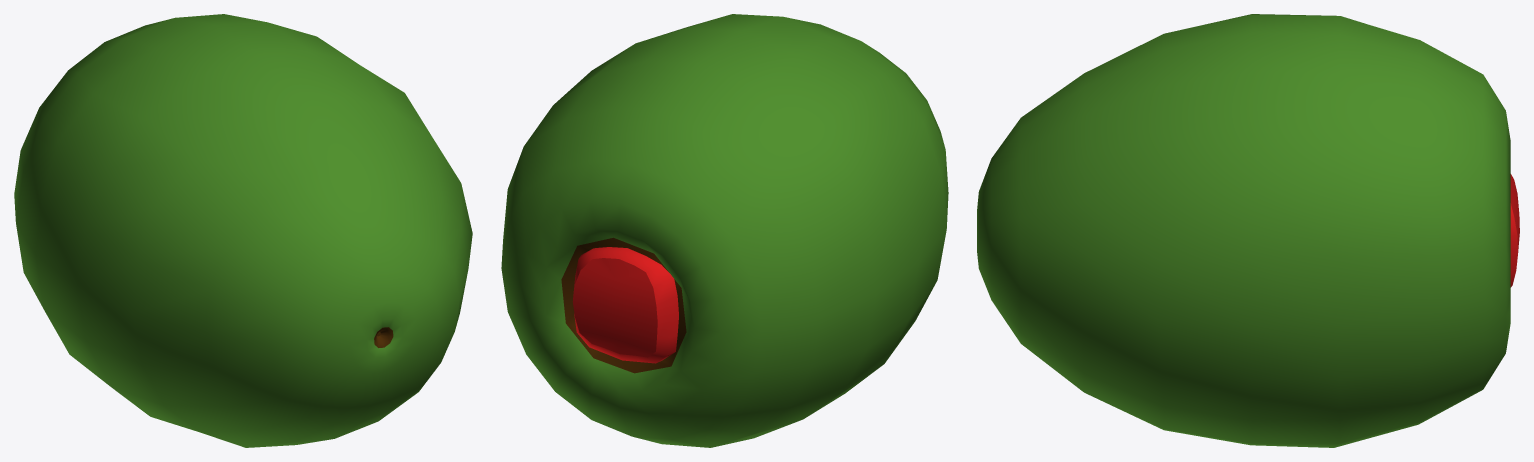
Rendered from OliveFixed.fbx.
The picture shows the model from 3 angles, left to right: view 1: azimuth 30°, elevation 25°; view 2: azimuth 150°, elevation 25°; view 3: azimuth 270°, elevation 25°; orthographic projection. The views are drawn at different scales.
Visible parts, largest first — view 1: Olive; view 2: Olive; view 3: Olive.
Boxes of the visible parts, x1,y1,x2,y2 form: Olive: (14, 14, 472, 447); Olive: (501, 14, 948, 447); Olive: (977, 14, 1519, 447).
Size of the model in its own units: 1844 by 1846 by 2307.
